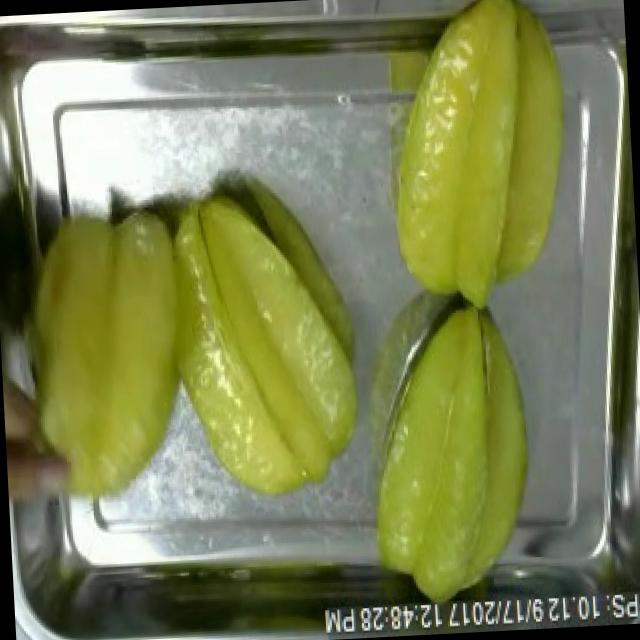fruit: (0, 171, 374, 525), (371, 0, 602, 326), (355, 286, 553, 615)
